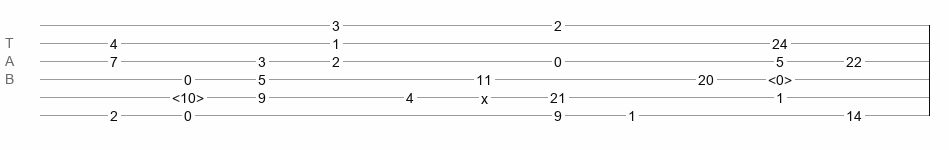0: (184, 108, 192, 118), (184, 72, 192, 82), (554, 54, 562, 64)
1: (332, 36, 340, 46), (628, 108, 636, 118), (776, 90, 784, 100)
11: (476, 72, 492, 82)
14: (846, 108, 862, 118)
2: (110, 108, 118, 118), (332, 54, 340, 64), (554, 18, 562, 28)
20: (698, 72, 714, 82)
21: (550, 90, 566, 100)
22: (846, 54, 862, 64)
24: (772, 36, 788, 46)
3: (258, 54, 266, 64), (332, 18, 340, 28)
4: (110, 36, 118, 46), (406, 90, 414, 100)
5: (258, 72, 266, 82), (776, 54, 784, 64)
7: (110, 54, 118, 64)
9: (258, 90, 266, 100), (554, 108, 562, 118)
harmonic: (172, 90, 204, 100), (768, 72, 792, 82)
x: (481, 91, 488, 99)
